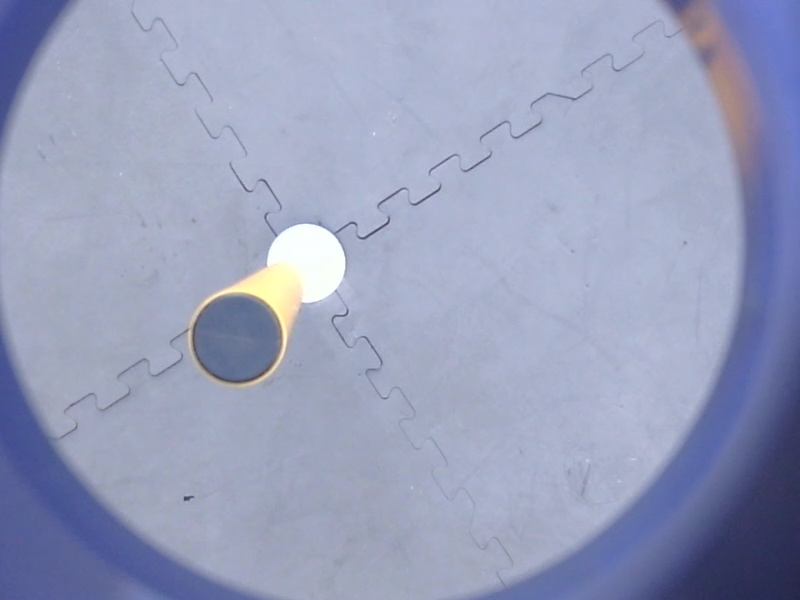tip: (182, 284, 294, 396)
